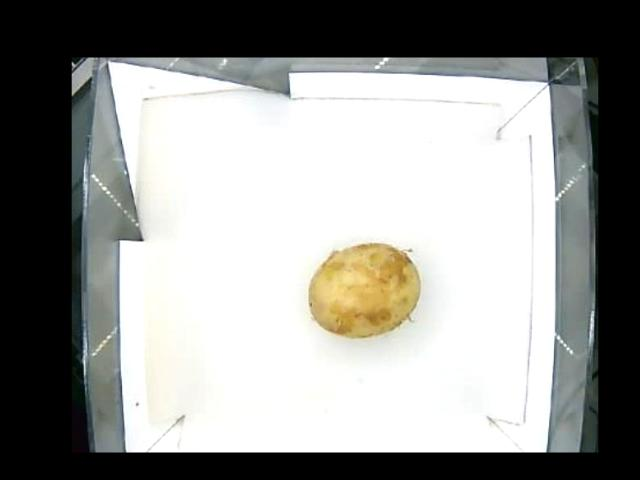Potato: (307, 244, 421, 338)
